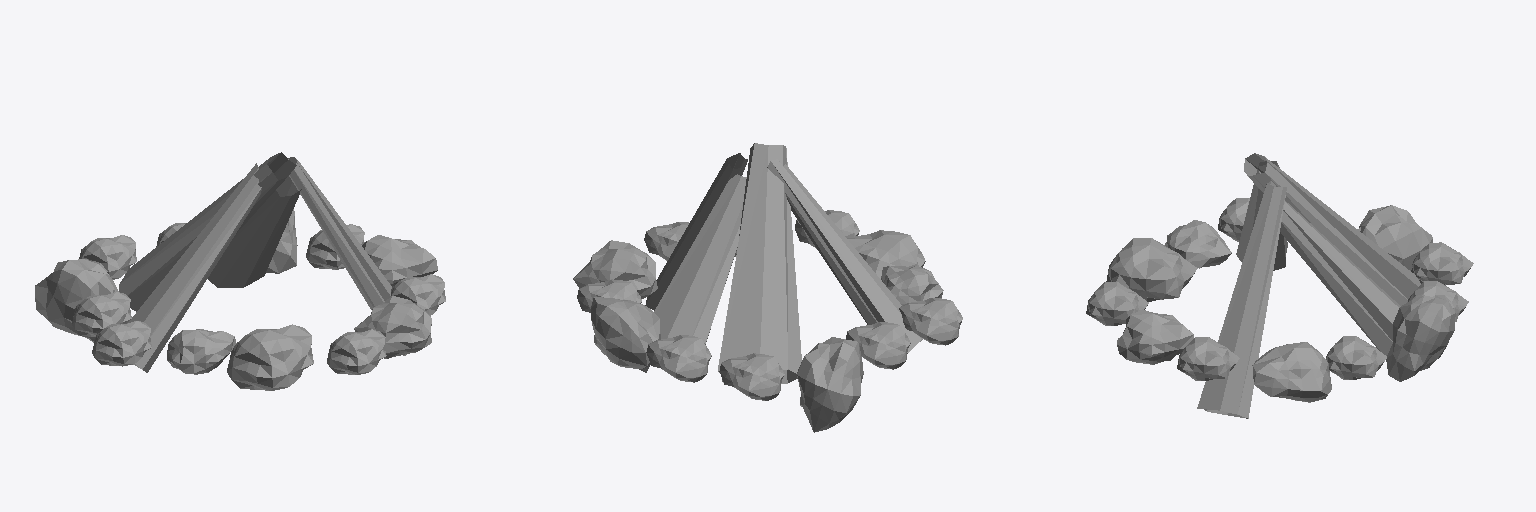
The model's file is campfire.obj.
The picture shows the model from 3 angles: view 1: azimuth 30°, elevation 25°; view 2: azimuth 150°, elevation 25°; view 3: azimuth 270°, elevation 25°; orthographic projection.
Parts seen in each view (by area): view 1: pinetree01.005_Plane.003, rock.001_Cube.003, pinetree01.004_Plane.003, pinetree01.003_Plane.003, pinetree01.009_Plane.003, rock.012_Cube.003, rock.003_Cube.003, rock.000_Cube.003, rock.005_Cube.003, rock.002_Cube.003, rock.015_Cube.003, rock.014_Cube.003 (+4 smaller); view 2: pinetree01.004_Plane.003, pinetree01.003_Plane.003, pinetree01.005_Plane.003, rock.012_Cube.003, rock.007_Cube.003, rock.005_Cube.003, pinetree01.009_Plane.003, rock.010_Cube.003, rock.009_Cube.003, rock.015_Cube.003, rock.001_Cube.003, rock.014_Cube.003 (+4 smaller); view 3: pinetree01.009_Plane.003, pinetree01.003_Plane.003, pinetree01.004_Plane.003, rock.007_Cube.003, rock.001_Cube.003, rock.005_Cube.003, rock.003_Cube.003, rock.012_Cube.003, rock.000_Cube.003, rock.004_Cube.003, rock.006_Cube.003, rock.010_Cube.003 (+4 smaller).
Boxes of the visible parts, x1,y1,x2,y2 form: pinetree01.005_Plane.003: [128, 163, 261, 372]; rock.001_Cube.003: [227, 324, 313, 390]; pinetree01.004_Plane.003: [119, 152, 296, 311]; pinetree01.003_Plane.003: [208, 176, 301, 287]; pinetree01.009_Plane.003: [288, 157, 406, 355]; rock.012_Cube.003: [35, 259, 129, 342]; rock.003_Cube.003: [354, 296, 431, 358]; rock.000_Cube.003: [167, 329, 236, 374]; rock.005_Cube.003: [362, 235, 437, 286]; rock.002_Cube.003: [327, 329, 386, 374]; rock.015_Cube.003: [92, 321, 151, 366]; rock.014_Cube.003: [72, 292, 131, 336]; pinetree01.004_Plane.003: [718, 143, 801, 383]; pinetree01.003_Plane.003: [654, 174, 746, 344]; pinetree01.005_Plane.003: [767, 159, 922, 353]; rock.012_Cube.003: [797, 337, 863, 432]; rock.007_Cube.003: [591, 297, 660, 372]; rock.005_Cube.003: [573, 240, 657, 298]; pinetree01.009_Plane.003: [645, 153, 747, 310]; rock.010_Cube.003: [719, 353, 784, 400]; rock.009_Cube.003: [646, 335, 711, 382]; rock.015_Cube.003: [899, 298, 962, 345]; rock.001_Cube.003: [847, 230, 925, 278]; rock.014_Cube.003: [846, 322, 910, 369]; pinetree01.009_Plane.003: [1197, 181, 1286, 418]; pinetree01.003_Plane.003: [1280, 201, 1400, 355]; pinetree01.004_Plane.003: [1244, 153, 1420, 305]; rock.007_Cube.003: [1386, 296, 1455, 381]; rock.001_Cube.003: [1106, 238, 1197, 301]; rock.005_Cube.003: [1252, 342, 1331, 402]; rock.003_Cube.003: [1117, 309, 1193, 364]; rock.012_Cube.003: [1358, 205, 1432, 283]; rock.000_Cube.003: [1165, 220, 1231, 268]; rock.004_Cube.003: [1177, 337, 1239, 380]; rock.006_Cube.003: [1326, 336, 1386, 379]; rock.010_Cube.003: [1411, 242, 1473, 285].
Size of the model in its own units: 7.34 by 4.13 by 7.01.